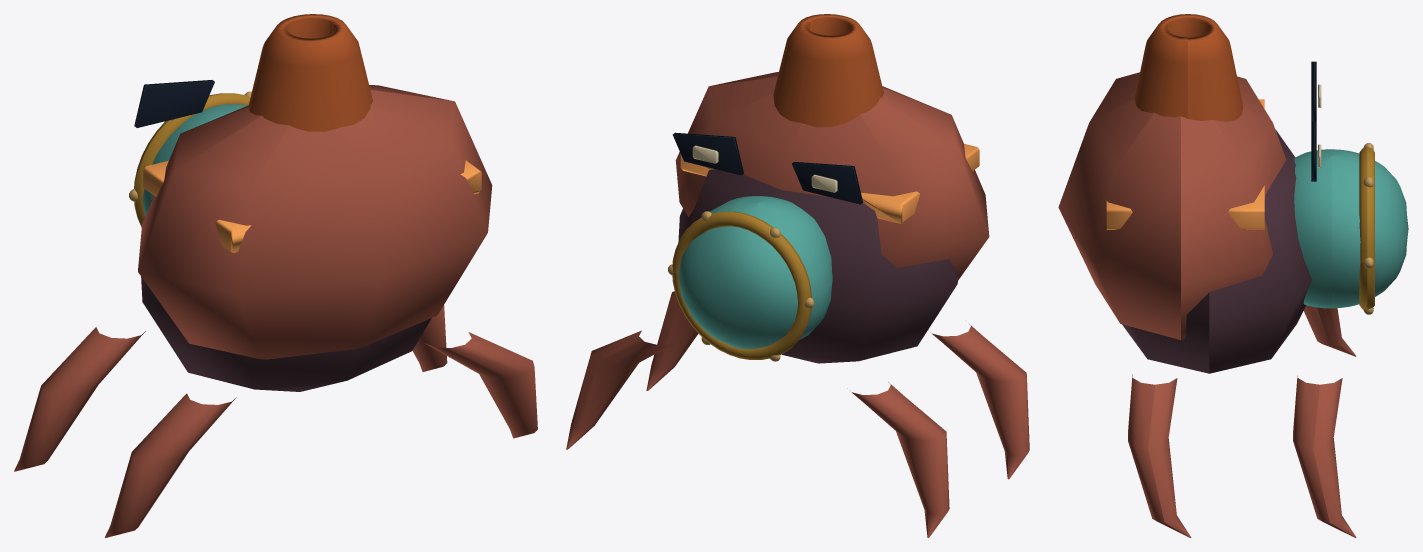
File: creature_4_3.glb
3 views of the same model, side by side, from view 1: azimuth 30°, elevation 25°; view 2: azimuth 150°, elevation 25°; view 3: azimuth 270°, elevation 25° (orthographic). The views are drawn at different scales.
Parts seen in each view (by area): view 1: ShellDome, VolcanoVent, BroadBack, LegSegment1, LegSegment0, LegSegment3, InkEye, CoreFrame, LegSegment2, GlassCore, ShellTile-1_2, ShellTile-1_0; view 2: ShellDome, BroadBack, GlassCore, VolcanoVent, LegSegment0, LegSegment1, CoreFrame, LegSegment2, InkEye (×2), LegSegment3, ShellTile-1_0; view 3: ShellDome, BroadBack, GlassCore, VolcanoVent, LegSegment3, LegSegment2, CoreFrame, LegSegment0, ShellTile1_0, ShellTile1_2.
Part boxes in pixels (bbox=[...]): ShellDome: bbox=[138, 85, 492, 359]; VolcanoVent: bbox=[248, 14, 372, 131]; BroadBack: bbox=[141, 276, 431, 391]; LegSegment1: bbox=[105, 393, 236, 537]; LegSegment0: bbox=[14, 327, 145, 471]; LegSegment3: bbox=[425, 332, 537, 438]; InkEye: bbox=[134, 80, 214, 127]; CoreFrame: bbox=[134, 93, 250, 227]; LegSegment2: bbox=[412, 305, 447, 371]; GlassCore: bbox=[142, 104, 247, 216]; ShellTile-1_2: bbox=[215, 219, 250, 252]; ShellTile-1_0: bbox=[143, 160, 168, 196]; ShellDome: bbox=[675, 72, 989, 280]; BroadBack: bbox=[678, 169, 958, 363]; GlassCore: bbox=[678, 196, 832, 349]; VolcanoVent: bbox=[773, 14, 883, 127]; LegSegment0: bbox=[847, 382, 949, 537]; LegSegment1: bbox=[928, 324, 1029, 479]; CoreFrame: bbox=[672, 211, 811, 359]; LegSegment2: bbox=[566, 330, 680, 449]; InkEye (×2): bbox=[672, 132, 863, 204]; LegSegment3: bbox=[646, 291, 698, 390]; ShellTile-1_0: bbox=[861, 191, 919, 223]; ShellDome: bbox=[1058, 72, 1286, 339]; BroadBack: bbox=[1122, 129, 1312, 373]; GlassCore: bbox=[1294, 149, 1408, 308]; VolcanoVent: bbox=[1134, 14, 1243, 121]; LegSegment3: bbox=[1128, 374, 1191, 537]; LegSegment2: bbox=[1293, 375, 1356, 537]; CoreFrame: bbox=[1359, 147, 1374, 309]; LegSegment0: bbox=[1303, 305, 1356, 356]; ShellTile1_0: bbox=[1228, 185, 1264, 229]; ShellTile1_2: bbox=[1106, 201, 1132, 229].
Bounding box in the file's own units: 1.89 × 1.96 × 1.48.
